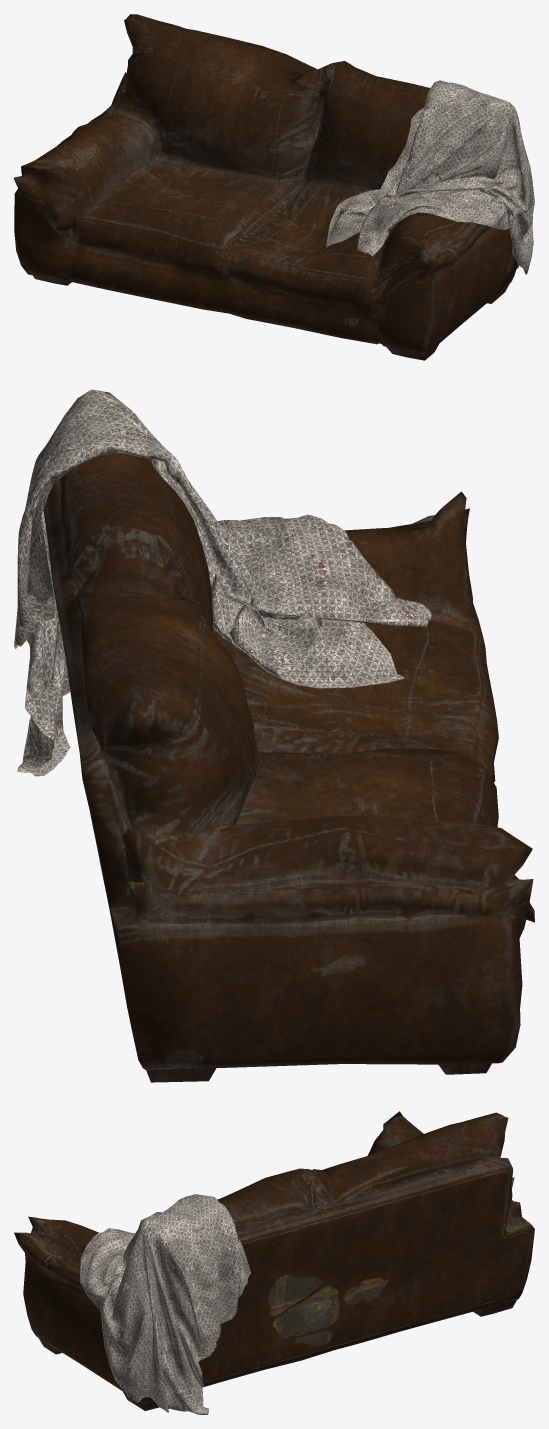
3 renders of one model, top to bottom at view 1: azimuth 30°, elevation 25°; view 2: azimuth 150°, elevation 25°; view 3: azimuth 270°, elevation 25°, orthographic. The views are drawn at different scales.
Parts seen in each view (by area): view 1: Couch_a:Mesh_0, Group58779_0; view 2: Couch_a:Mesh_0, Group58779_0; view 3: Couch_a:Mesh_0, Group58779_0.
Boxes of the visible parts, x1,y1,x2,y2 form: Couch_a:Mesh_0: (14,14,517,360); Group58779_0: (326,80,534,274); Couch_a:Mesh_0: (43,453,534,1082); Group58779_0: (14,389,431,776); Couch_a:Mesh_0: (14,1111,534,1410); Group58779_0: (80,1194,250,1414).
Bounding box in the file's own units: 5.48 × 2.67 × 6.31.
